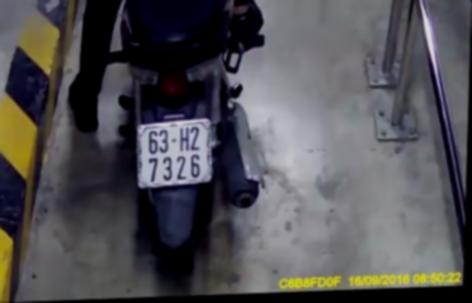License_Plate: (128, 118, 221, 192)
